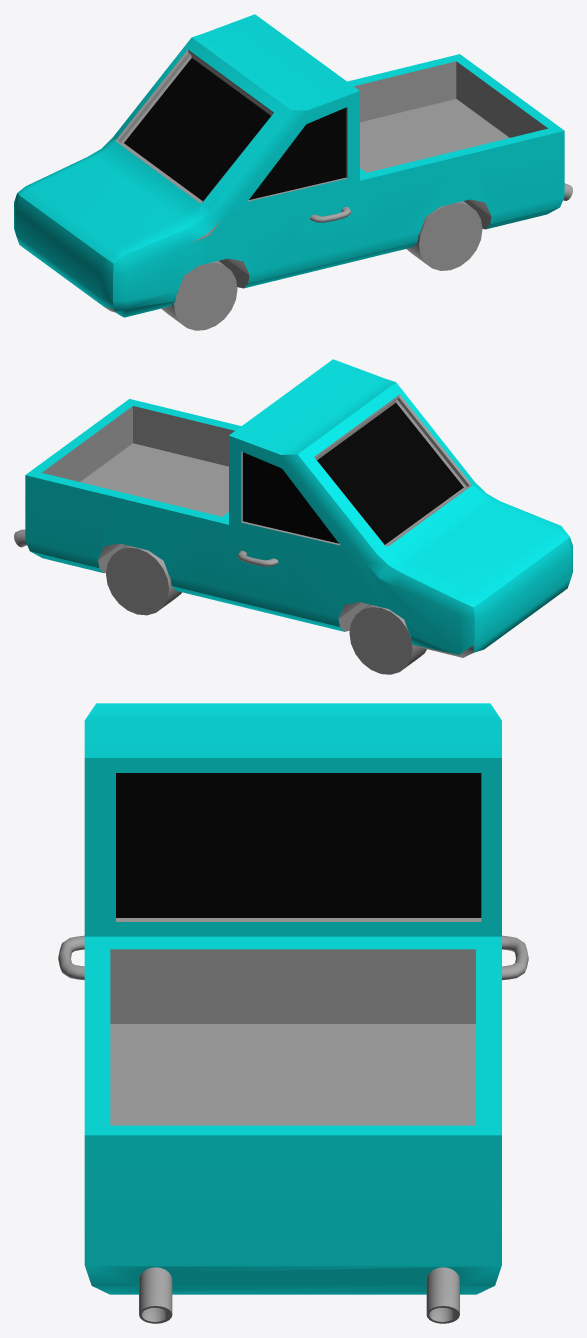
File: truck_painted.fbx
3 renders of one model, top to bottom at view 1: azimuth 30°, elevation 25°; view 2: azimuth 150°, elevation 25°; view 3: azimuth 270°, elevation 25°, orthographic. The views are drawn at different scales.
Parts seen in each view (by area): view 1: pCylinder9; view 2: pCylinder9; view 3: pCylinder9.
Boxes of the visible parts, x1,y1,x2,y2 form: pCylinder9: (14, 14, 572, 330); pCylinder9: (14, 359, 572, 674); pCylinder9: (58, 703, 528, 1323).
Size of the model in its own units: 52.67 by 21.7 by 22.57.
